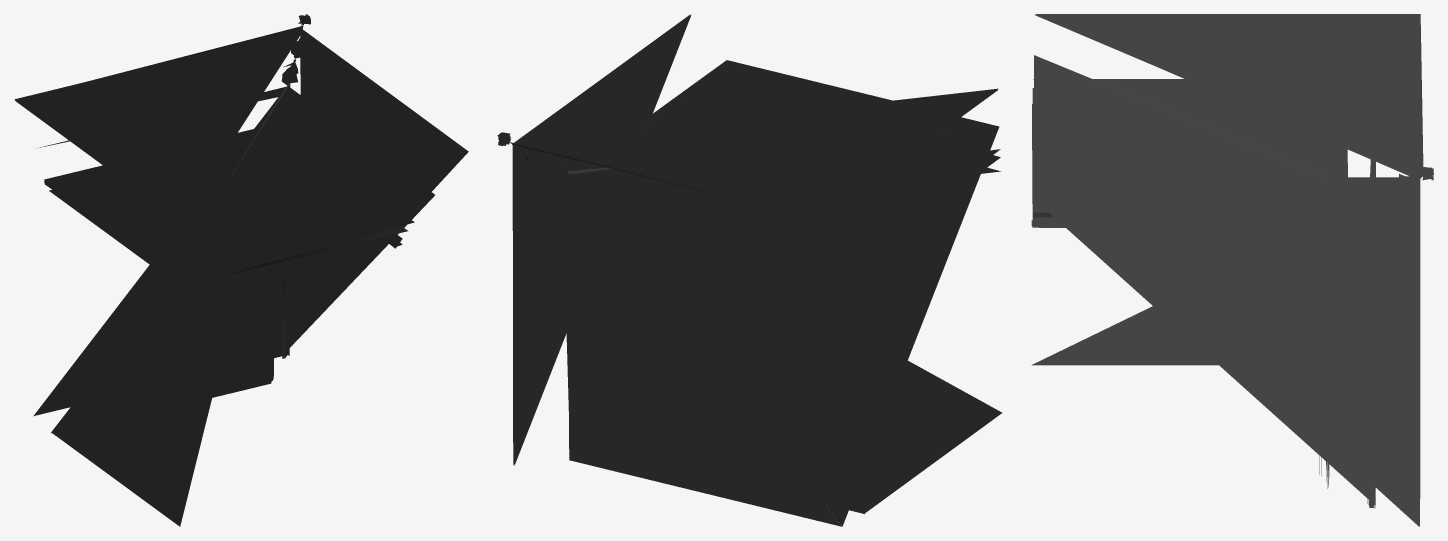
3 renders of one model, left to right at view 1: azimuth 30°, elevation 25°; view 2: azimuth 150°, elevation 25°; view 3: azimuth 270°, elevation 25°, orthographic. The views are drawn at different scales.
Visible parts, largest first — view 1: Object_2; view 2: Object_2; view 3: Object_2.
Part boxes in pixels (bbox=[...]): Object_2: bbox=[14, 14, 468, 526]; Object_2: bbox=[497, 14, 1002, 526]; Object_2: bbox=[1031, 14, 1433, 526].
Size of the model in its own units: 7.74e-42 by 7.72e-42 by 7.74e-42.
